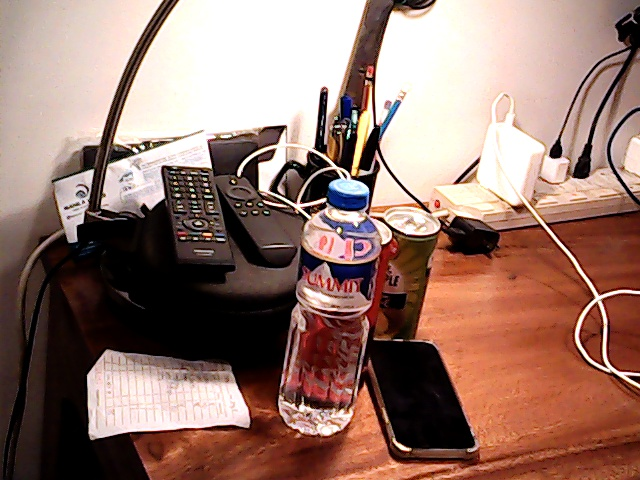Pine Juice: (375, 202, 448, 340)
Summit Water: (287, 177, 371, 437)
